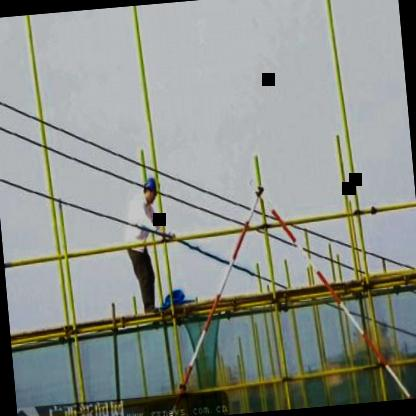helmet: (138, 175, 164, 207)
